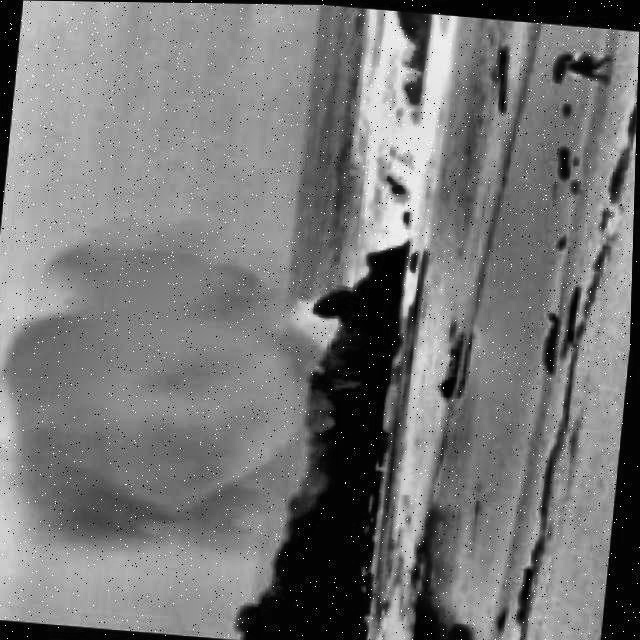Smoke: (0, 201, 434, 594)
